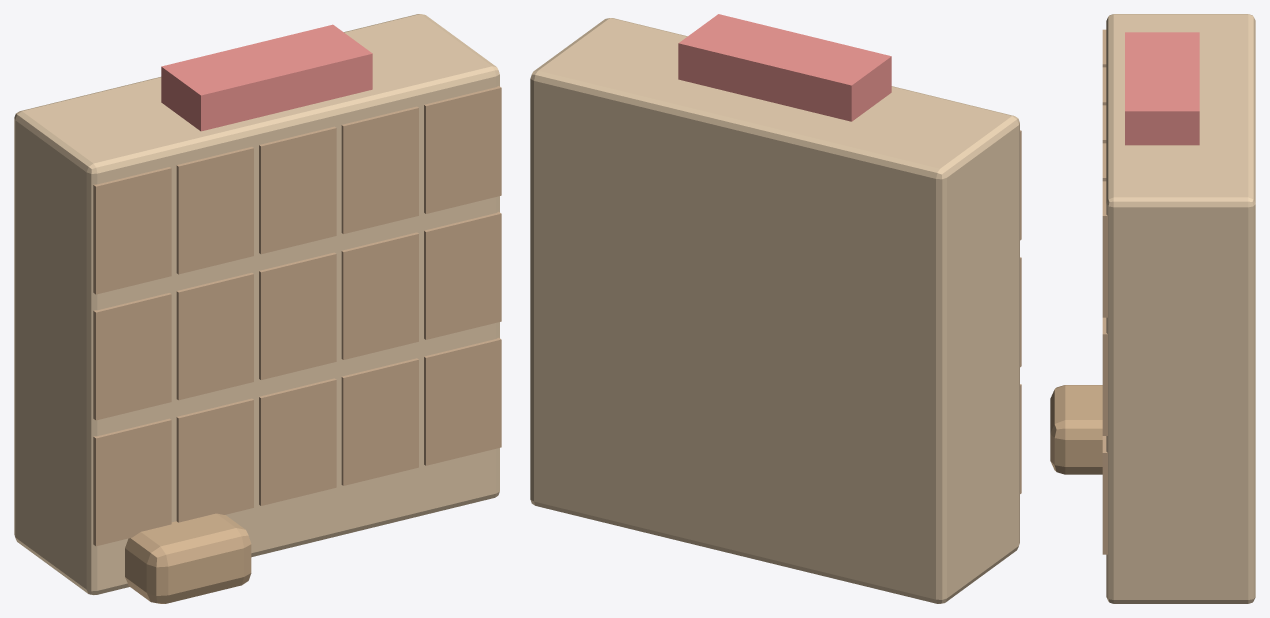
The model's file is organizador_cartas.glb.
3 views of the same model, side by side, from view 1: azimuth 30°, elevation 25°; view 2: azimuth 150°, elevation 25°; view 3: azimuth 270°, elevation 25° (orthographic). The views are drawn at different scales.
Parts seen in each view (by area): view 1: organizador_cartas; view 2: organizador_cartas; view 3: organizador_cartas.
Boxes of the visible parts, box(x1,y1,x2,y2) form: organizador_cartas: box(14, 14, 501, 603); organizador_cartas: box(530, 14, 1021, 603); organizador_cartas: box(1050, 14, 1255, 603).
Size of the model in its own units: 1.2 by 1.3 by 0.55.
